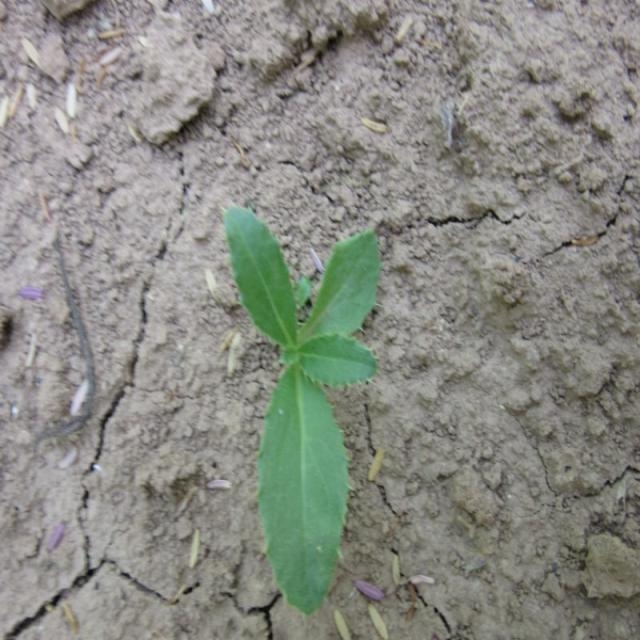field_thistle: (201, 168, 393, 634)
